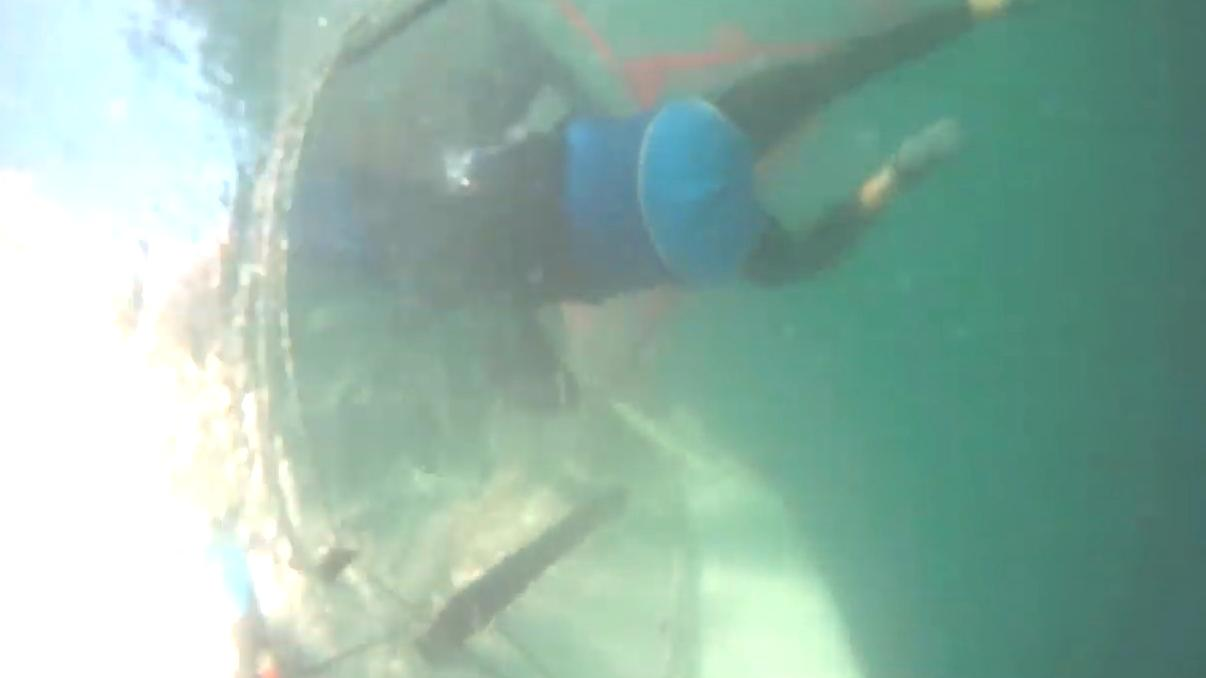boat: (241, 0, 1034, 678)
person: (517, 0, 1022, 303)
underwater: (0, 0, 1206, 678)
